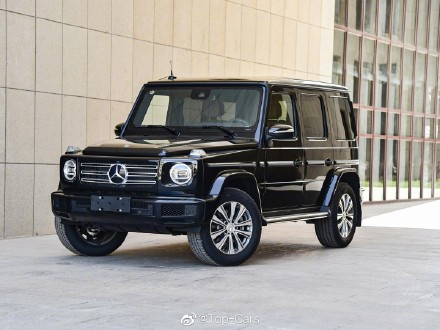other: (48, 70, 364, 262)
